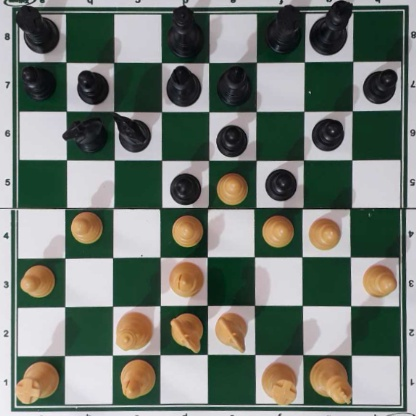black-bishop: (216, 66, 253, 105), (166, 65, 201, 106)
black-king: (310, 1, 351, 58)
black-knight: (111, 112, 150, 151), (62, 117, 106, 151)
black-pawn: (362, 67, 397, 105), (20, 64, 55, 99), (215, 120, 249, 156), (311, 116, 345, 151), (170, 169, 202, 204), (265, 166, 297, 201), (76, 67, 106, 104)
black-queen: (166, 3, 205, 58)
black-rook: (14, 1, 61, 53), (263, 5, 304, 55)
white-bishop: (119, 358, 154, 400), (170, 260, 204, 297)
white-king: (308, 357, 354, 407)
white-knight: (214, 311, 250, 352), (169, 313, 204, 351)
white-pawn: (360, 262, 397, 299), (308, 213, 342, 251), (19, 263, 56, 296), (261, 213, 294, 247), (215, 170, 249, 203), (70, 210, 103, 243), (171, 213, 203, 247)
white-queen: (116, 308, 152, 353)
white-rook: (14, 360, 59, 403), (261, 363, 299, 405)
